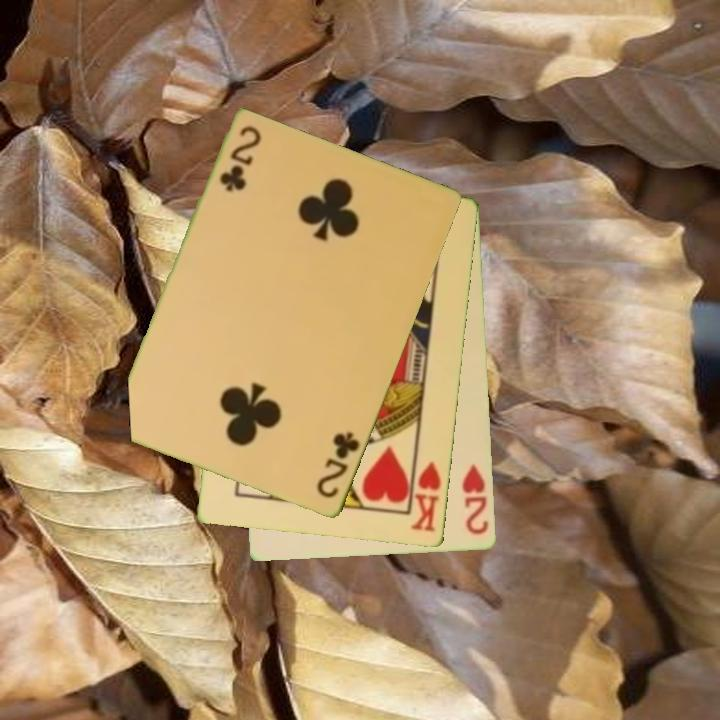2c: (313, 428, 363, 502), (216, 122, 263, 195)
2h: (459, 461, 492, 538)
Kh: (407, 451, 444, 535)
